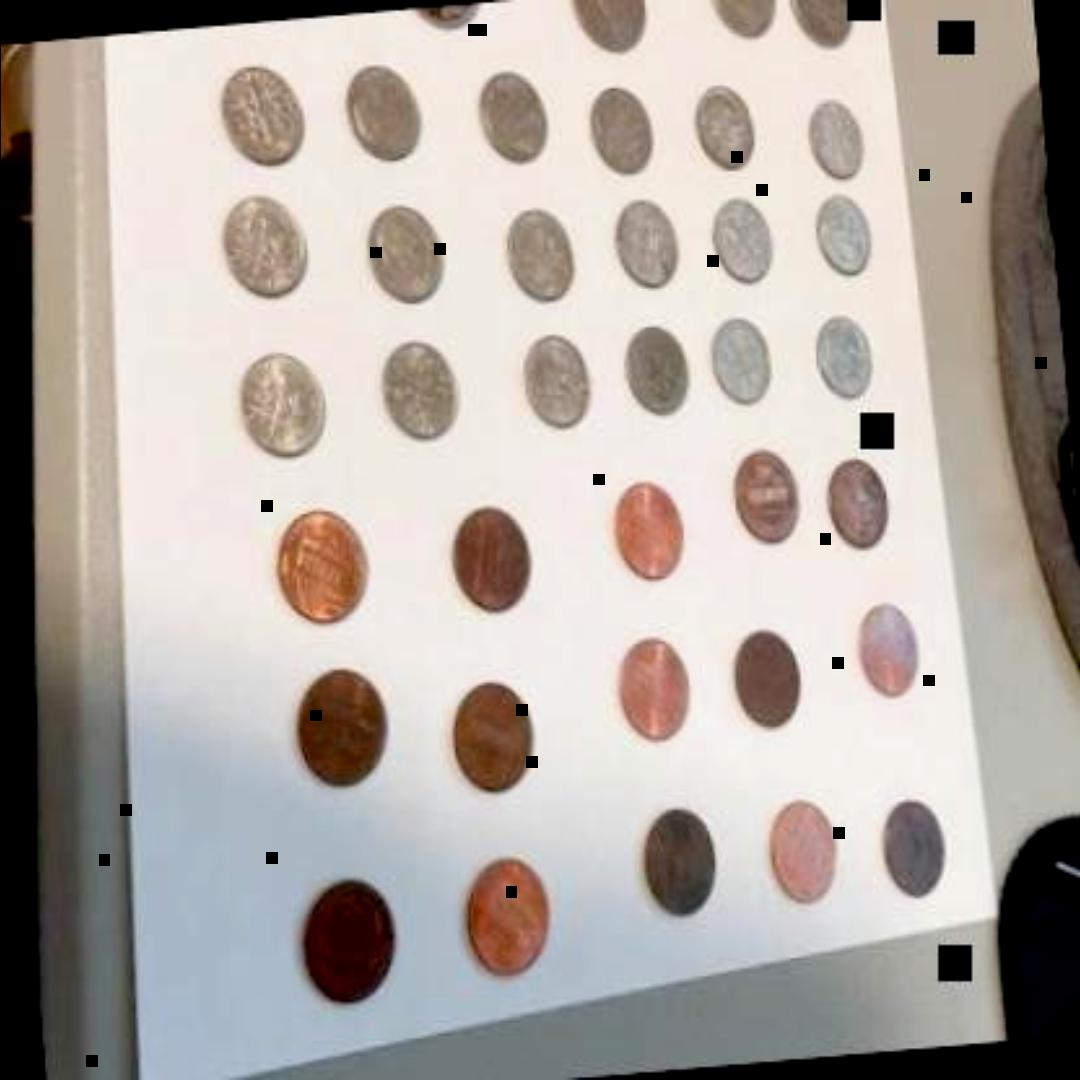Dime: (219, 61, 315, 183), (220, 186, 318, 302), (240, 350, 336, 460), (342, 58, 432, 168), (366, 200, 450, 308), (384, 340, 468, 442), (521, 330, 601, 433), (704, 311, 784, 409), (588, 82, 668, 180), (505, 204, 585, 302), (481, 69, 561, 167), (614, 195, 690, 293), (626, 324, 700, 417), (711, 194, 781, 288), (815, 310, 882, 404), (815, 190, 882, 278), (699, 80, 761, 174), (810, 102, 872, 184)
Nickel: (572, 0, 656, 60), (787, 0, 867, 54), (706, 1, 784, 42)
Penny: (297, 868, 403, 1012), (294, 664, 403, 800), (272, 506, 382, 628), (448, 673, 548, 805), (460, 851, 558, 978), (637, 799, 725, 923), (452, 504, 540, 618), (730, 622, 814, 736), (616, 634, 700, 742), (609, 476, 689, 586), (767, 796, 847, 904), (878, 792, 953, 904), (852, 598, 928, 702), (730, 447, 804, 545), (828, 454, 895, 550)
